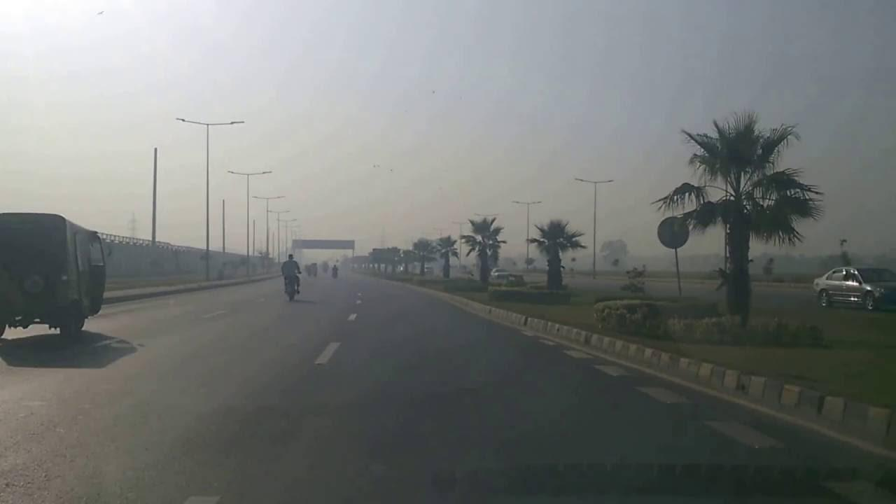backpack: (282, 255, 302, 293)
bicycle: (281, 254, 303, 298), (283, 271, 301, 303), (289, 262, 304, 297)
bus: (0, 213, 109, 339), (489, 268, 526, 289)
car: (0, 215, 108, 341), (812, 266, 890, 312), (87, 238, 109, 318), (820, 281, 878, 311), (812, 266, 870, 296), (859, 268, 896, 311), (520, 270, 571, 293), (282, 254, 302, 298), (497, 272, 535, 291), (489, 269, 525, 289), (872, 282, 895, 312), (860, 268, 895, 286), (419, 254, 446, 277), (863, 286, 886, 310), (779, 270, 812, 284), (489, 266, 515, 283), (524, 274, 547, 290), (523, 258, 543, 272)
clock: (657, 216, 690, 250)
dog: (283, 276, 301, 303)
fire hydrant: (1, 211, 109, 340), (716, 262, 752, 327), (546, 257, 564, 291)
handbag: (282, 257, 302, 294)
horse: (713, 265, 746, 302), (283, 275, 301, 303), (713, 268, 731, 293)
kite: (658, 215, 690, 249)
motorcycle: (0, 215, 108, 341), (280, 254, 302, 299), (287, 274, 311, 302), (283, 271, 301, 303), (289, 262, 304, 297), (280, 284, 299, 304)
parking meter: (0, 213, 109, 341), (87, 235, 108, 316), (546, 257, 563, 291)
person: (715, 261, 752, 327), (87, 235, 108, 316), (730, 253, 754, 321), (713, 262, 746, 297), (287, 256, 313, 300), (713, 266, 735, 316), (281, 253, 302, 300), (764, 257, 785, 283), (546, 257, 562, 290), (289, 262, 304, 297), (283, 274, 301, 303), (282, 253, 302, 278), (713, 268, 731, 293), (807, 325, 826, 348), (770, 317, 785, 345), (761, 257, 775, 282), (839, 239, 851, 268), (439, 250, 450, 280), (322, 261, 339, 280), (302, 262, 317, 283), (330, 259, 341, 280)
potted plant: (654, 110, 822, 317)
skateboard: (283, 275, 301, 303)
stop sign: (657, 217, 689, 250)
suitcase: (283, 276, 301, 303)
traffic light: (0, 213, 109, 339), (87, 235, 108, 316), (657, 217, 689, 250), (546, 257, 563, 291), (479, 251, 491, 285)
train: (1, 211, 109, 340)
truck: (0, 212, 109, 341), (811, 264, 891, 314), (497, 272, 535, 291), (489, 269, 525, 289), (489, 266, 515, 283)
umbrella: (654, 111, 822, 313)
